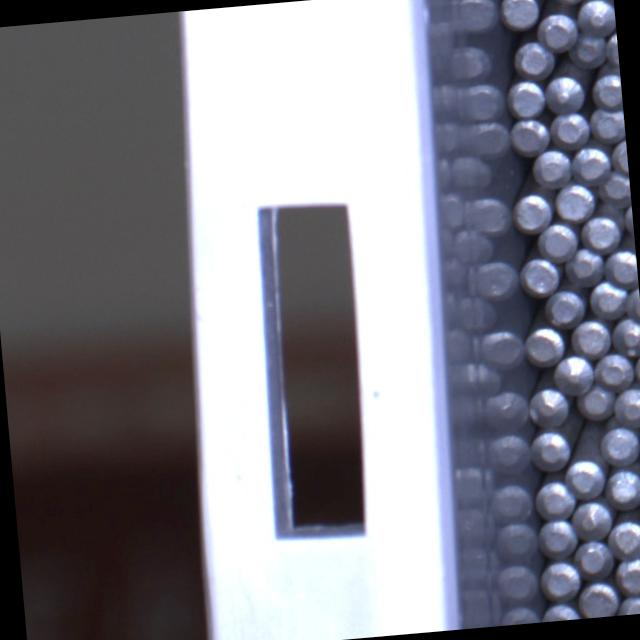tool: (581, 210, 626, 256), (522, 322, 566, 366), (553, 179, 598, 221), (528, 427, 571, 470), (509, 191, 552, 234), (517, 254, 561, 296), (526, 386, 570, 428), (565, 456, 607, 500), (570, 142, 613, 184), (589, 280, 632, 322), (571, 315, 613, 357), (537, 222, 579, 264), (536, 9, 578, 51), (542, 71, 584, 113), (552, 352, 594, 394), (599, 423, 640, 466), (532, 147, 574, 188), (572, 499, 613, 540), (545, 286, 587, 326), (562, 246, 604, 286), (508, 116, 550, 156), (514, 39, 556, 79), (594, 351, 636, 391), (542, 557, 584, 597), (538, 477, 578, 518), (507, 78, 547, 118), (540, 518, 580, 558), (576, 580, 618, 618), (550, 109, 590, 148), (576, 383, 616, 422), (575, 538, 614, 577), (567, 31, 607, 68), (575, 0, 616, 36), (605, 465, 640, 507), (590, 102, 626, 142), (604, 246, 638, 287), (607, 519, 640, 561), (496, 0, 538, 29), (599, 172, 631, 208), (592, 71, 622, 109), (613, 383, 640, 425), (613, 315, 640, 355), (616, 556, 640, 595), (541, 600, 581, 622), (610, 138, 628, 178), (604, 28, 619, 68), (616, 593, 640, 615), (633, 349, 640, 386)
